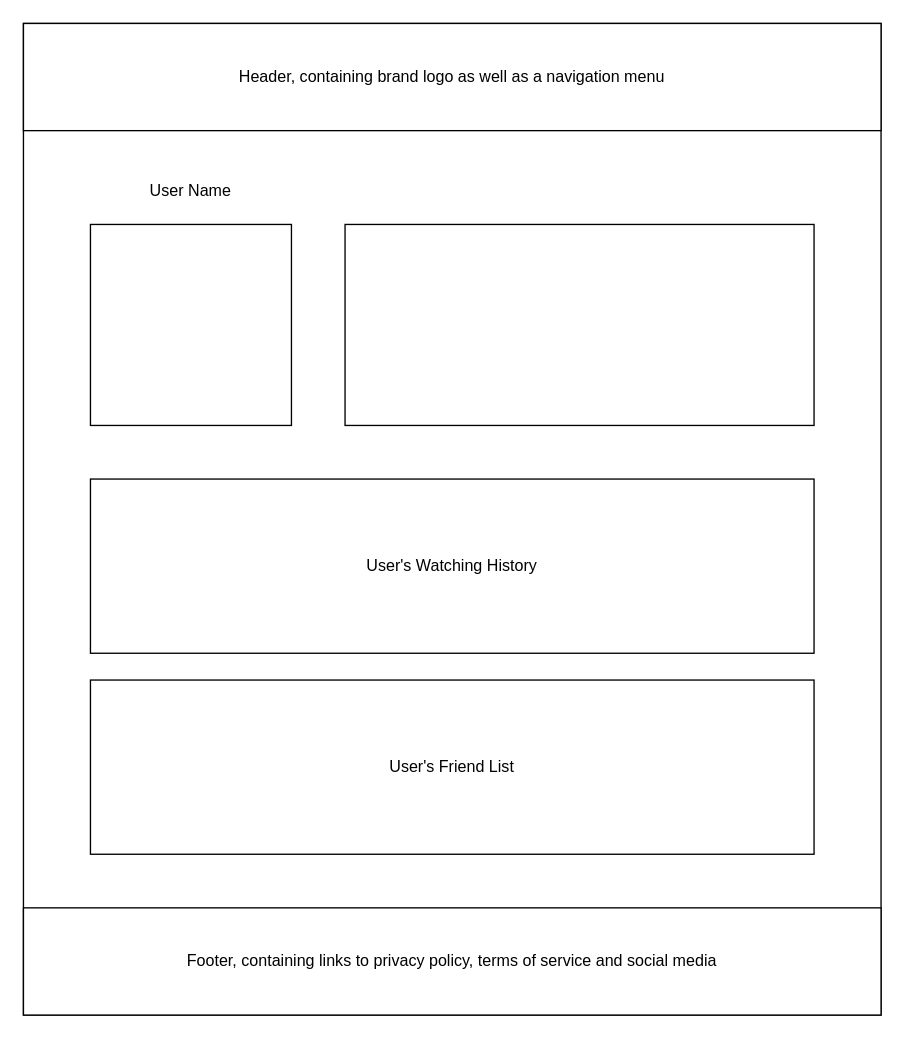
This 905x1039 diagram has some shape labels left out. Each missing label, with the box of its shape:
Short user bio: (344, 223, 814, 425)
User Profile Picture: (89, 223, 291, 425)
